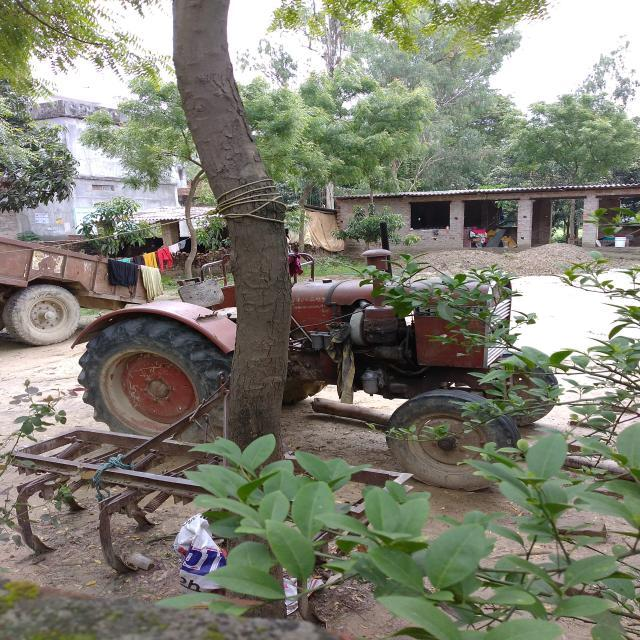Tractot: (102, 252, 568, 444)
